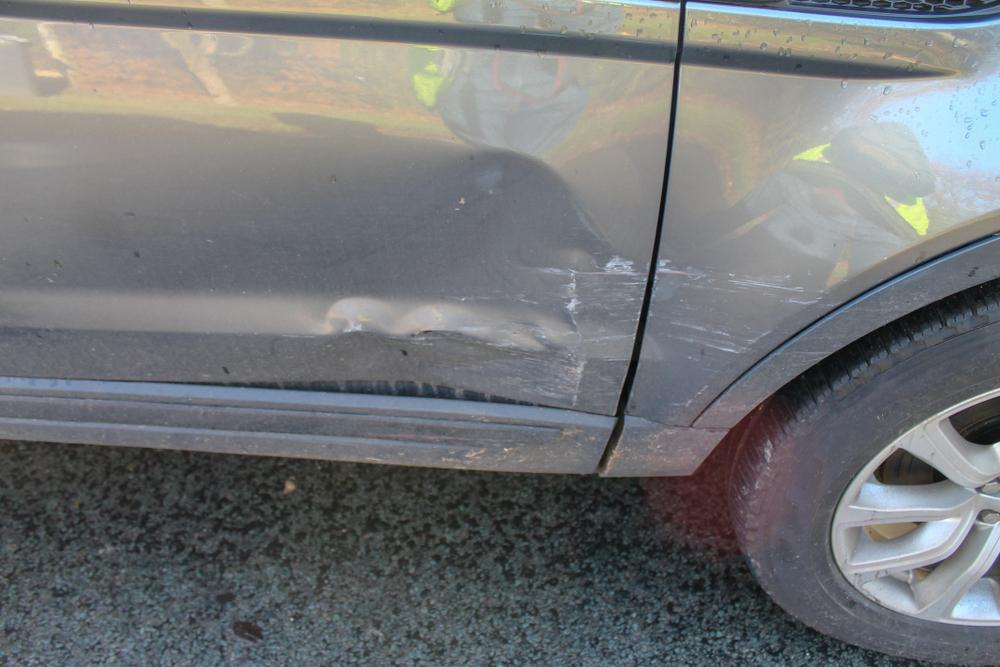dent: (267, 150, 645, 362), (756, 163, 918, 264)
scratch: (648, 256, 825, 410)
